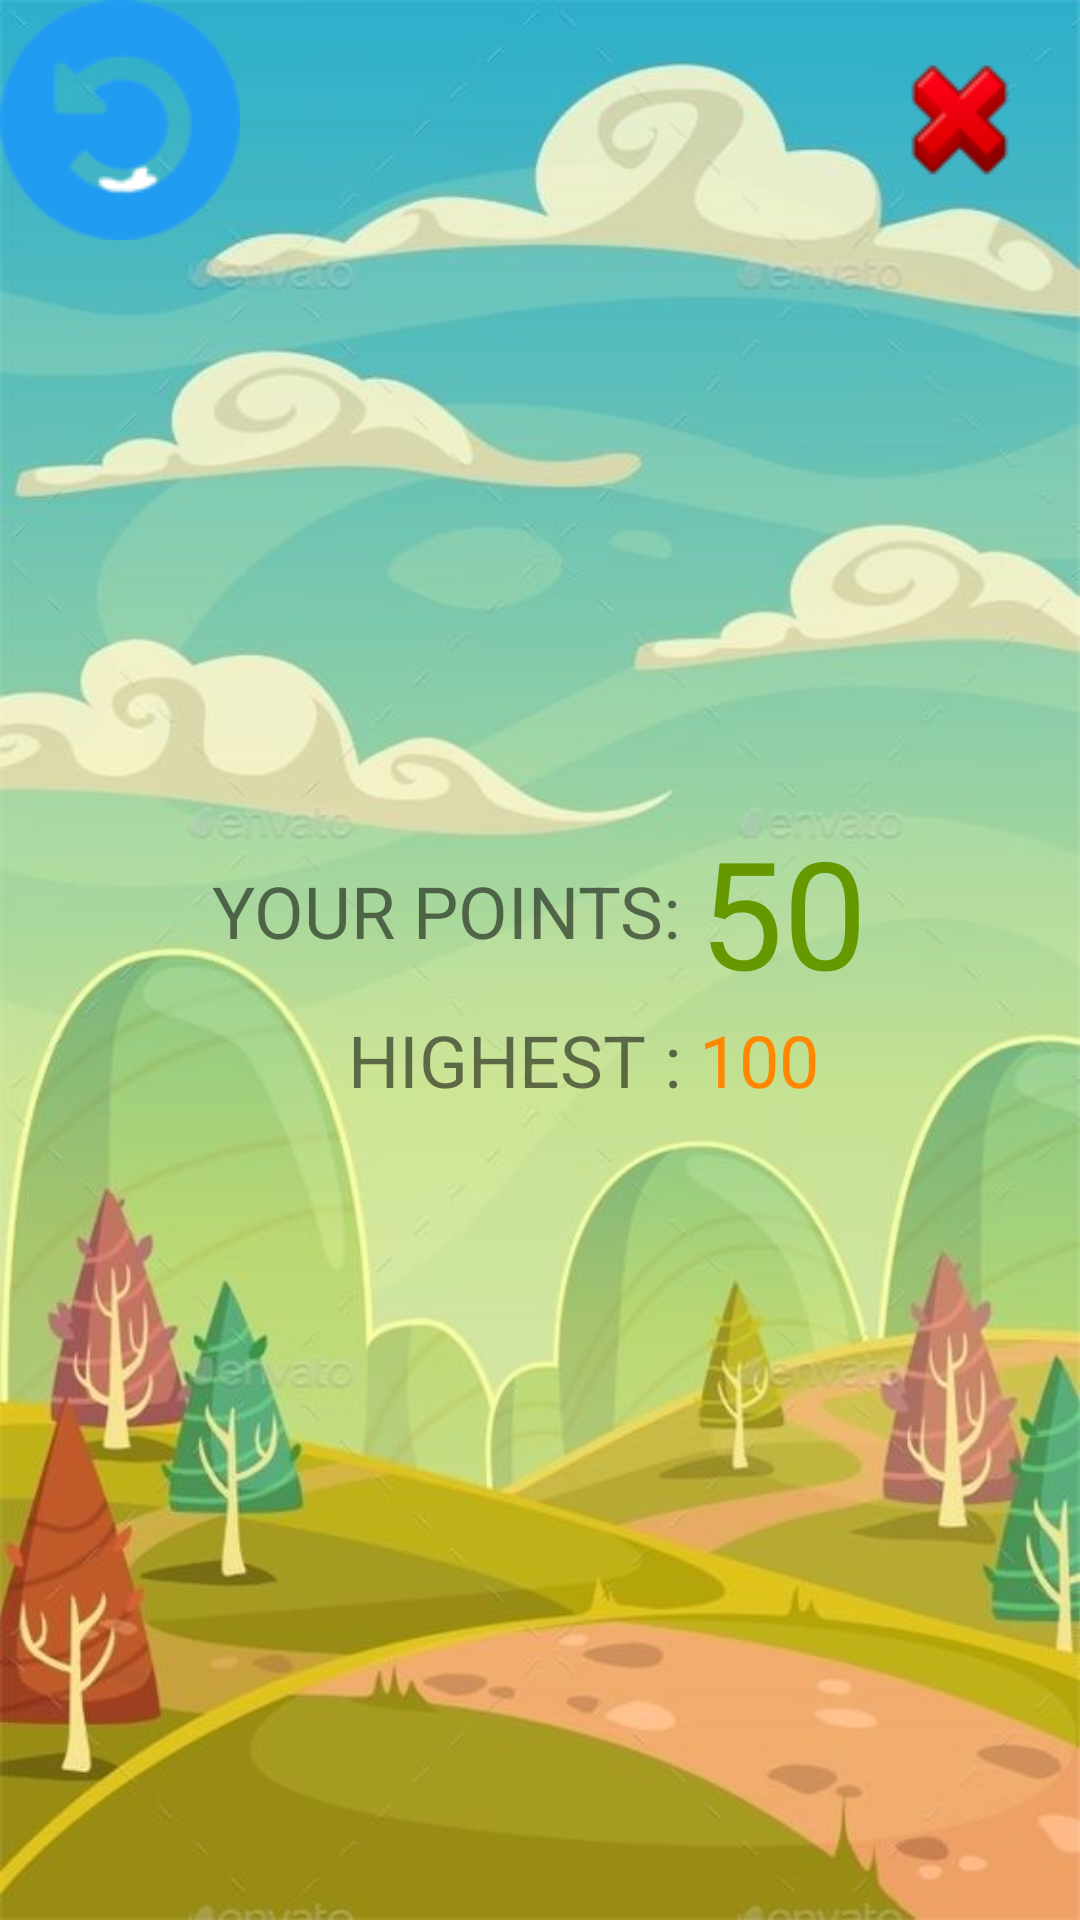

Named icons in this screenshot (1080w x 1920h) and their centers, point (x, y):
restart: point (120, 120)
